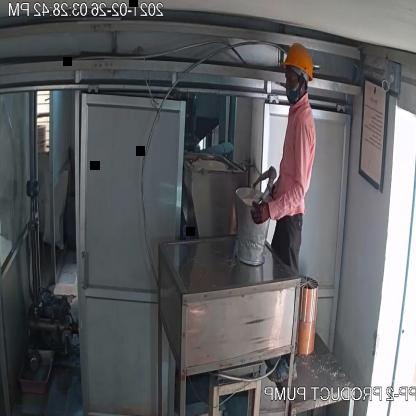helmet: (280, 42, 315, 84)
